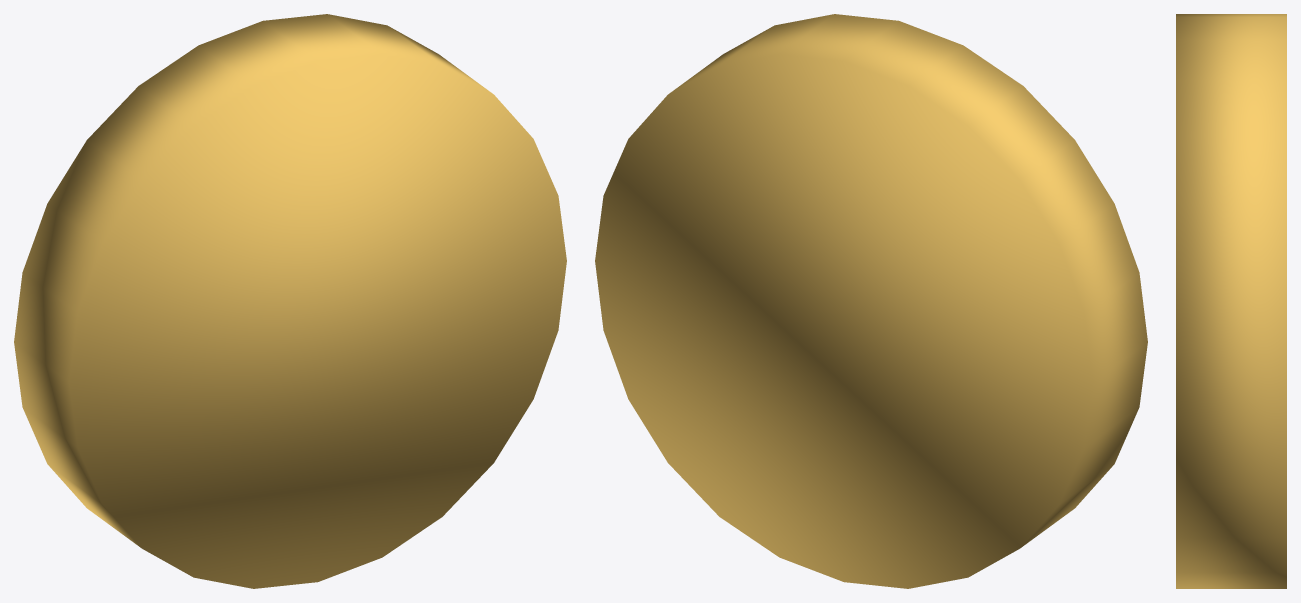
File: shape-circle-yellow.glb
The picture shows the model from 3 angles, left to right: view 1: azimuth 30°, elevation 25°; view 2: azimuth 150°, elevation 25°; view 3: azimuth 270°, elevation 25°; orthographic projection.
Parts seen in each view (by area): view 1: solid circle; view 2: solid circle; view 3: solid circle.
Boxes of the visible parts, x1=… form: solid circle: x1=14, y1=14, x2=566, y2=588; solid circle: x1=595, y1=14, x2=1147, y2=588; solid circle: x1=1176, y1=14, x2=1286, y2=588.
Size of the model in its own units: 1.3 by 1.3 by 0.25.
